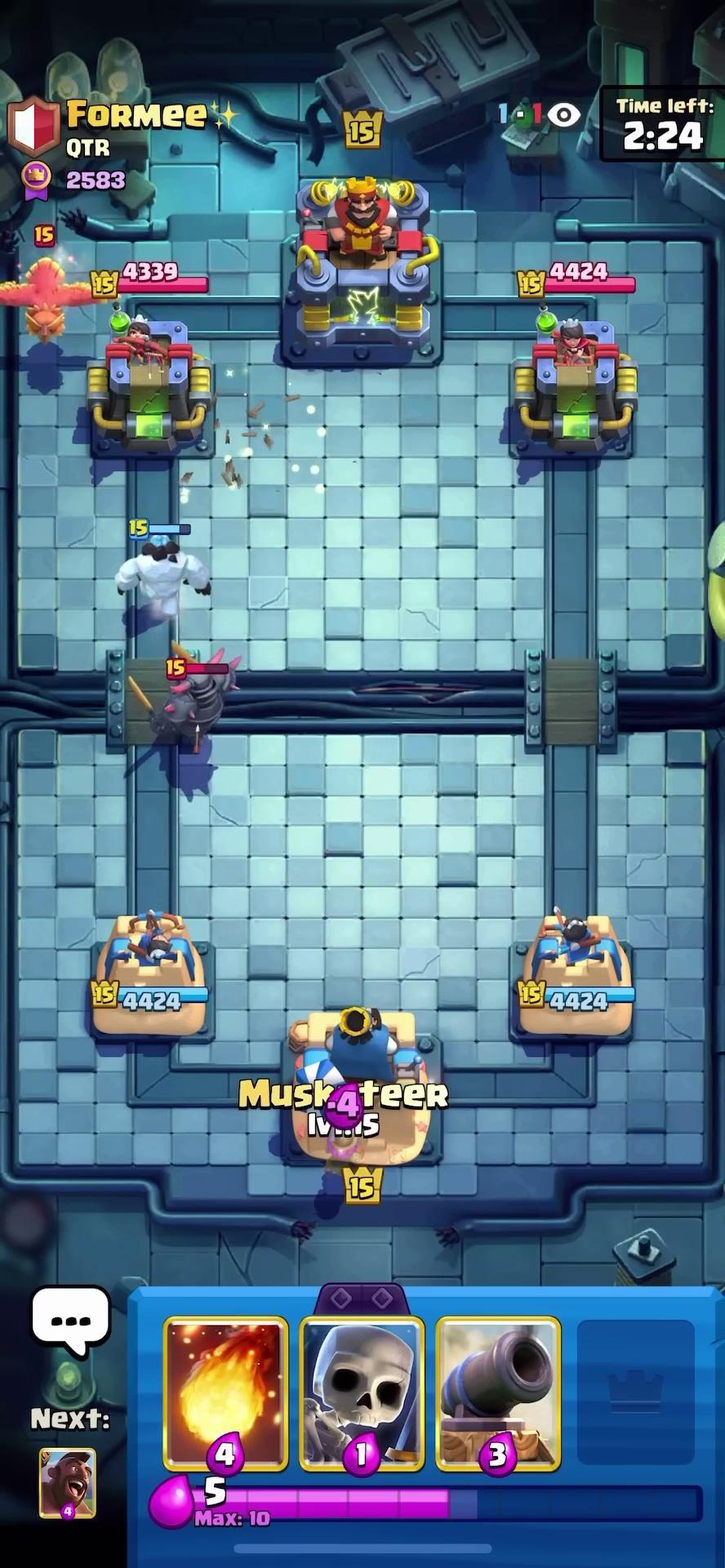ice_golem: (104, 521, 216, 621)
